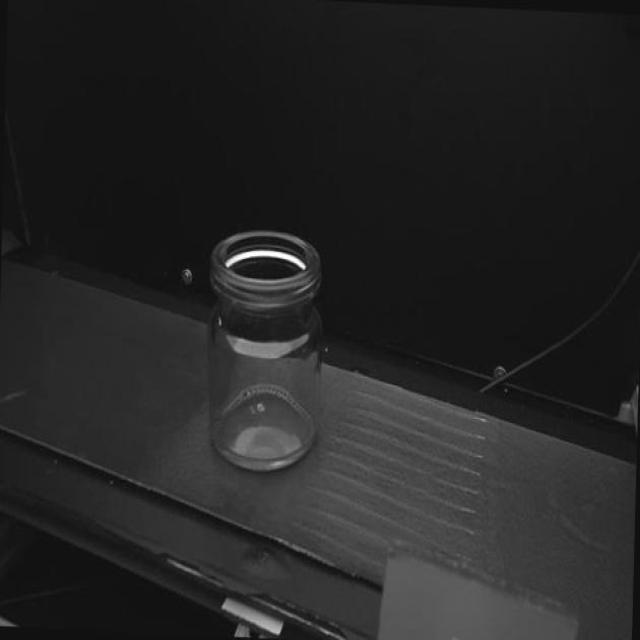defect: (218, 315, 222, 325)
glass: (201, 226, 329, 474)
